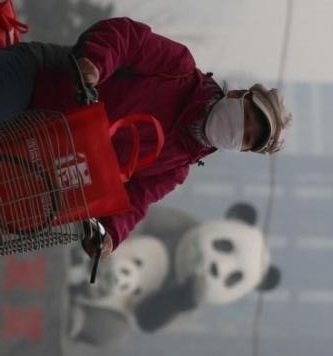person: (80, 12, 293, 204)
